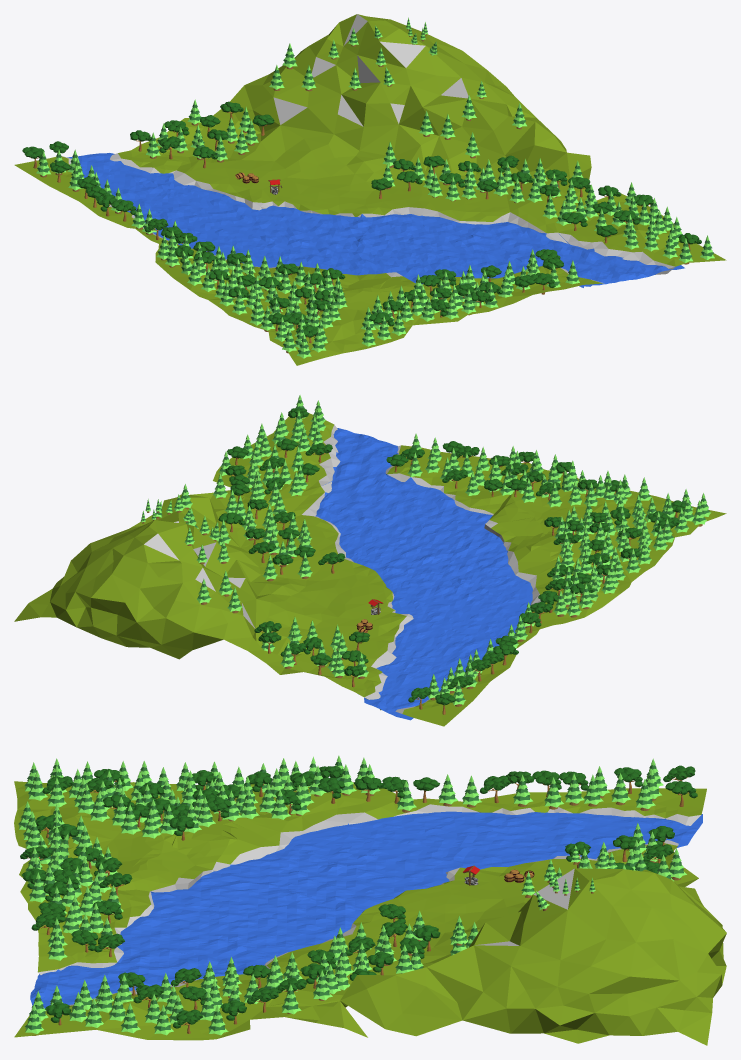
The model's file is Low_Poly_Forest.glb.
3 renders of one model, top to bottom at view 1: azimuth 30°, elevation 25°; view 2: azimuth 150°, elevation 25°; view 3: azimuth 270°, elevation 25°, orthographic. The views are drawn at different scales.
Visible parts, largest first — view 1: Ground, Lake; view 2: Ground, Lake; view 3: Ground, Lake.
Part boxes in pixels (left/top/right/bottom): Ground: left=14, top=14, right=726, bottom=365; Lake: left=67, top=153, right=684, bottom=287; Ground: left=14, top=413, right=726, bottom=726; Lake: left=315, top=428, right=532, bottom=720; Ground: left=14, top=781, right=726, bottom=1045; Lake: left=30, top=811, right=702, bottom=1008.
Bounding box in the file's own units: 13.03 × 4.04 × 15.26.
